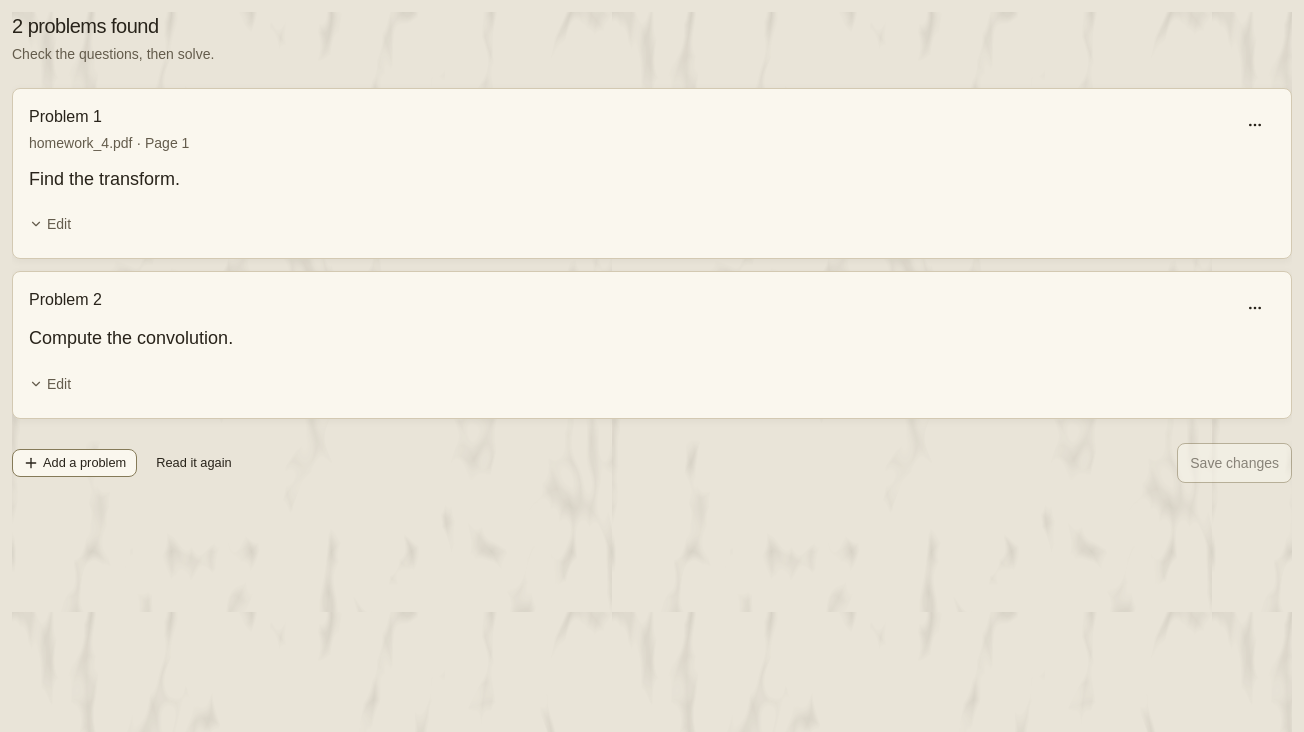
Test: SegmentationReview › keeps Save disabled until something actually changes
Expected: the button "Save changes" is disabled, [1177,442,1292,482]
Click the button named "Actions for Problem 1". click: click(1255, 125)
box: [1235,105,1275,145]
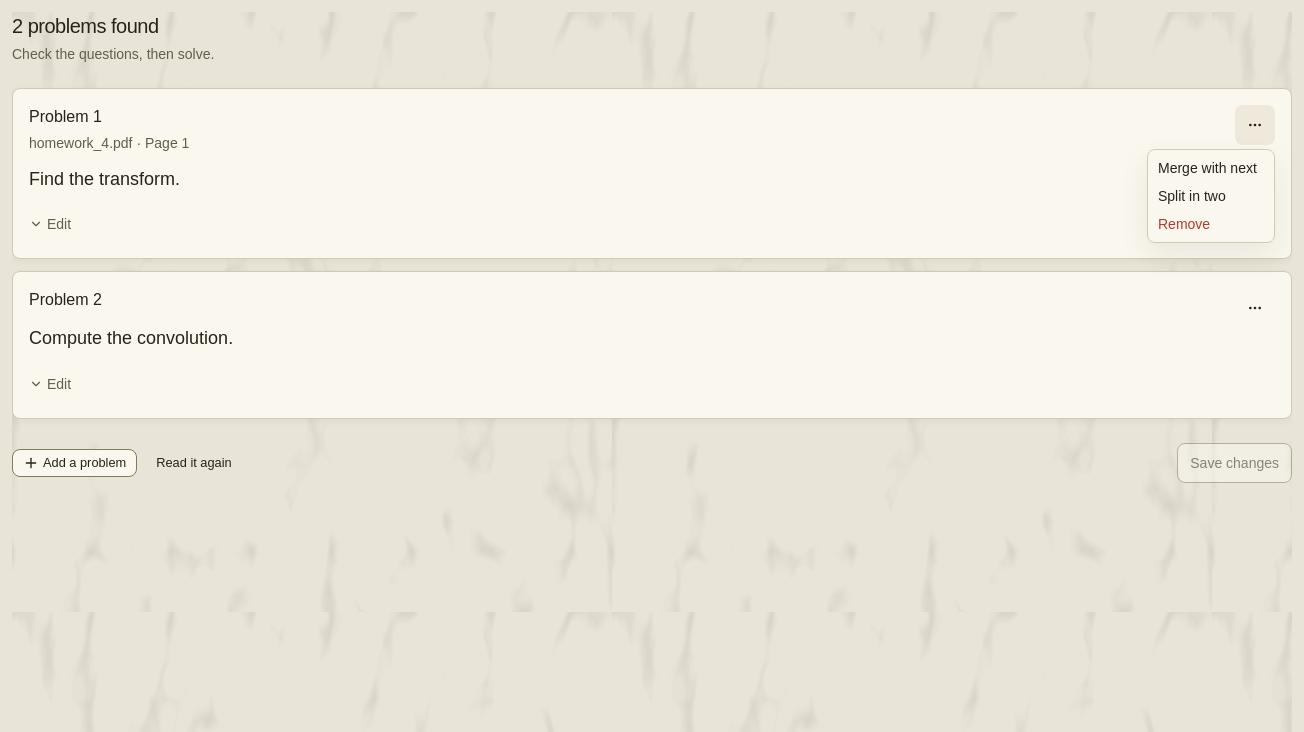
Click the menu item "Merge with next". click: click(1207, 168)
box: [1158,160,1257,176]
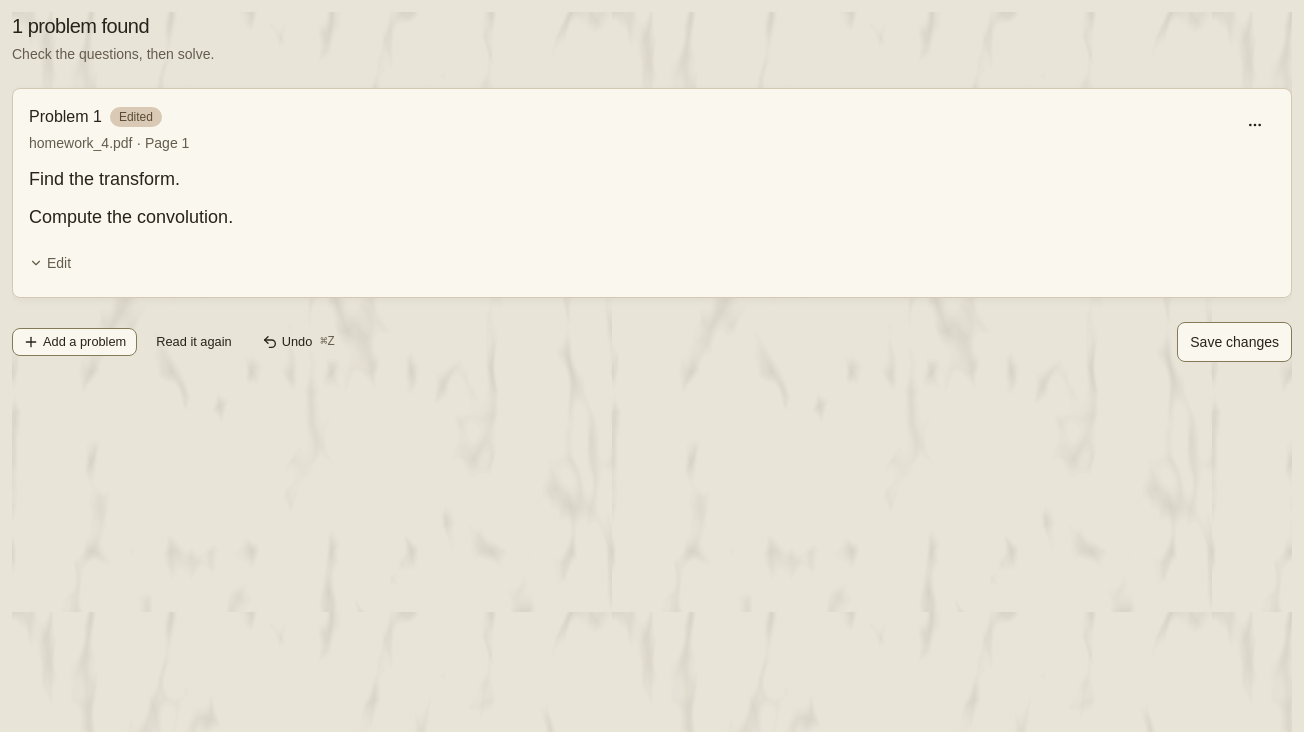
Expected: the button "Save changes" is enabled, [1177,322,1292,362]
